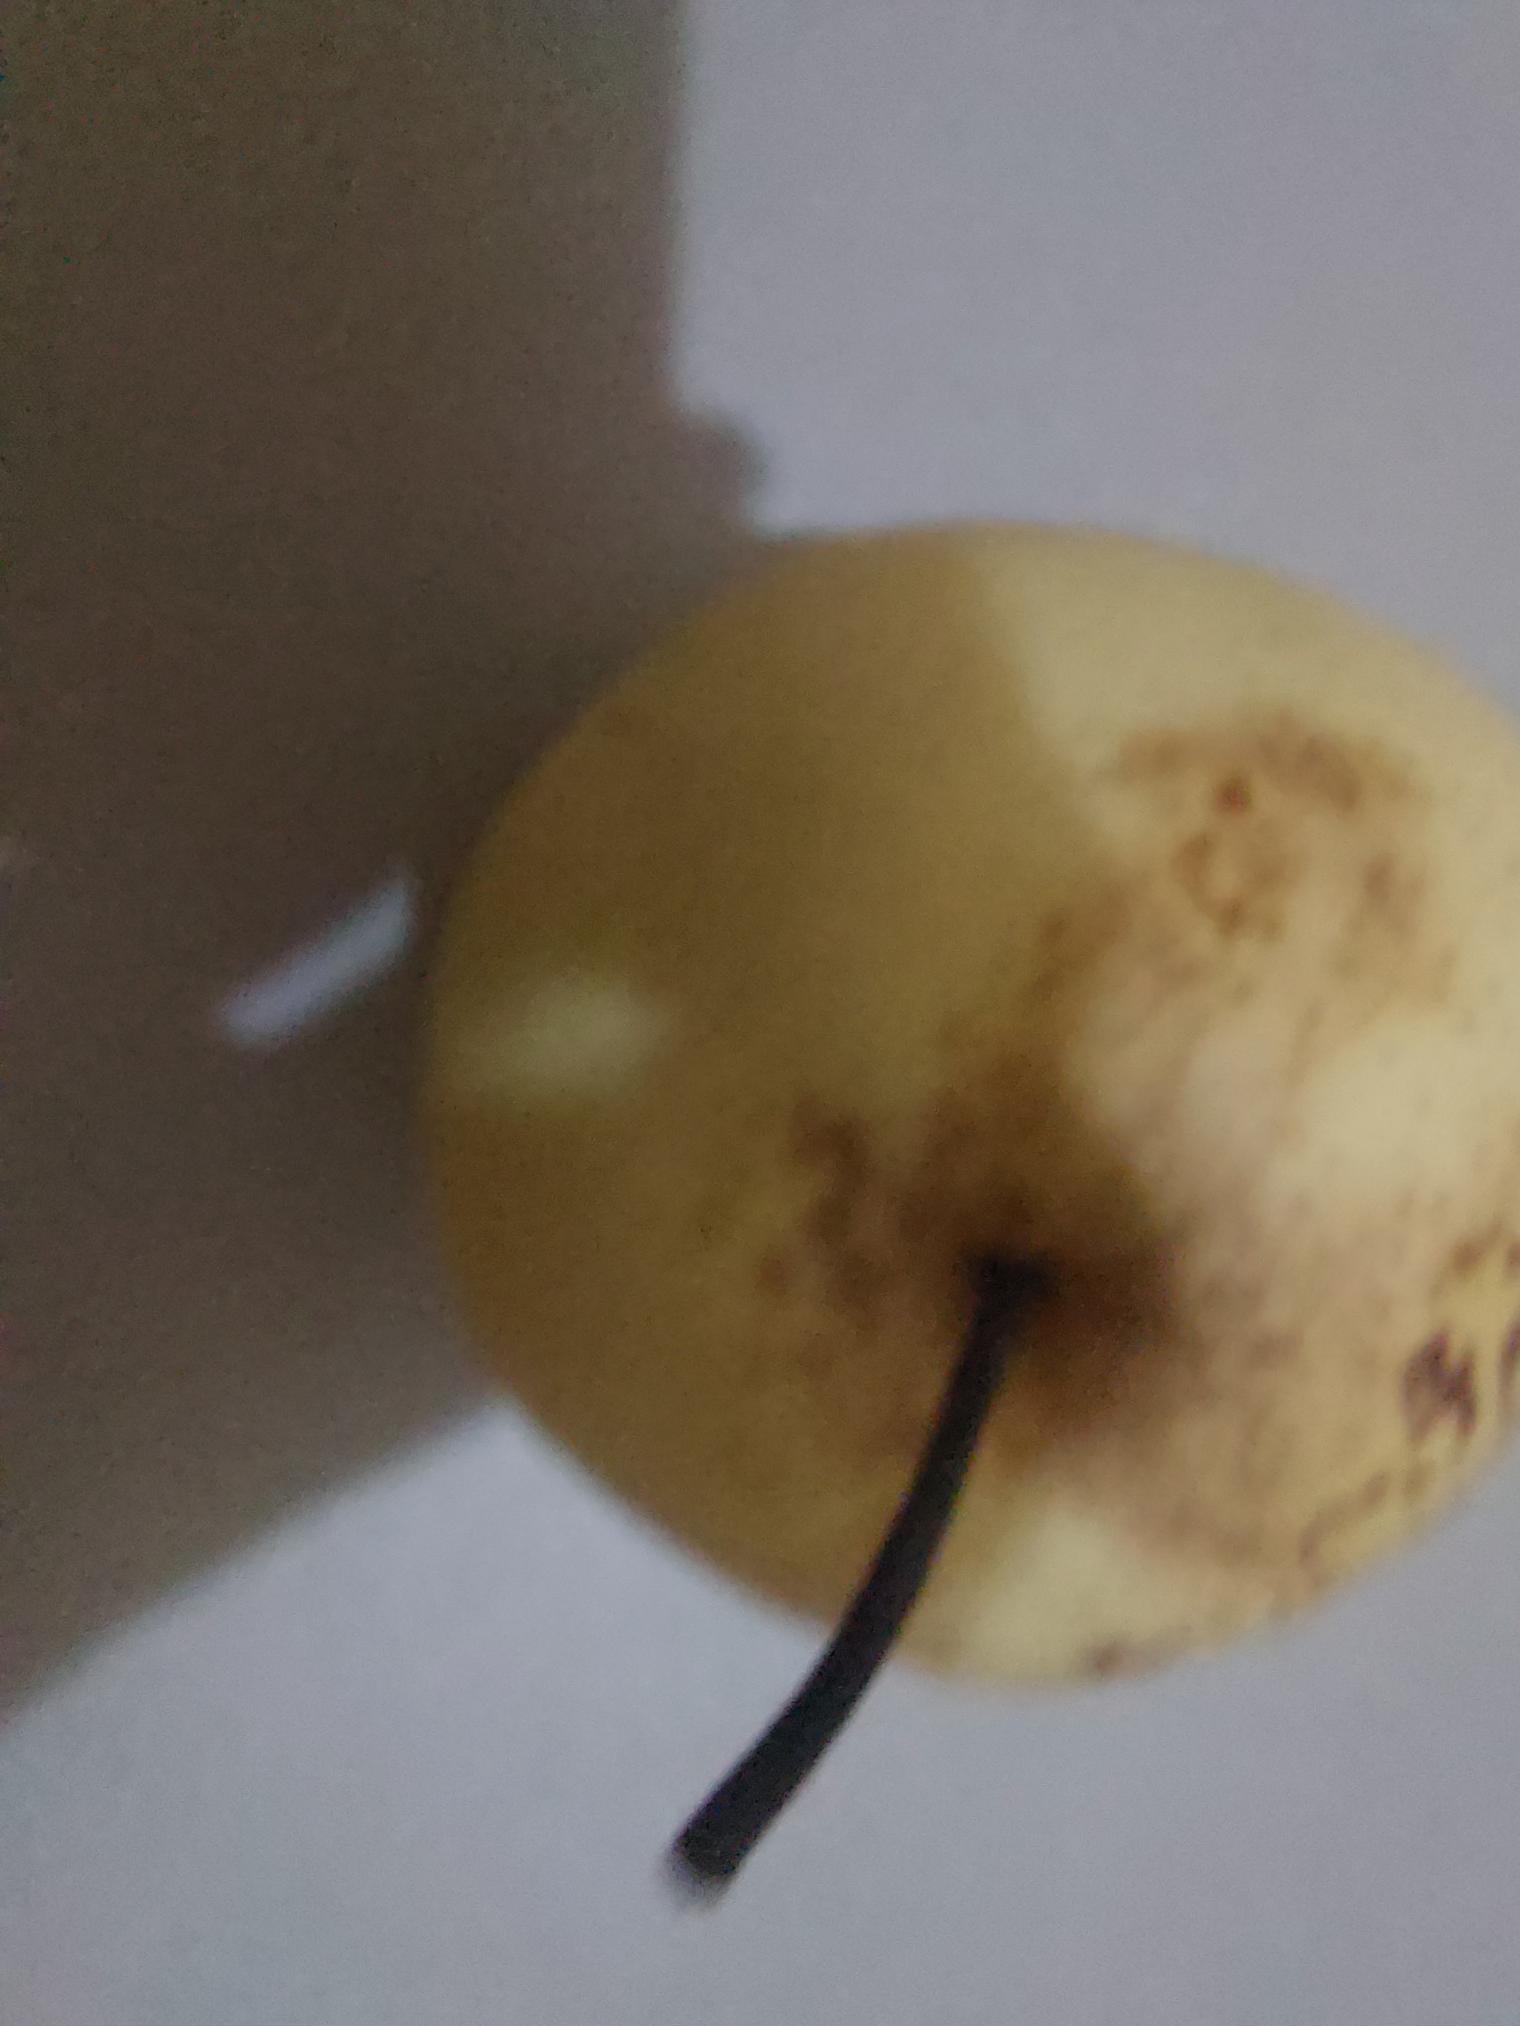Bad Pear: (422, 522, 1520, 1688)
